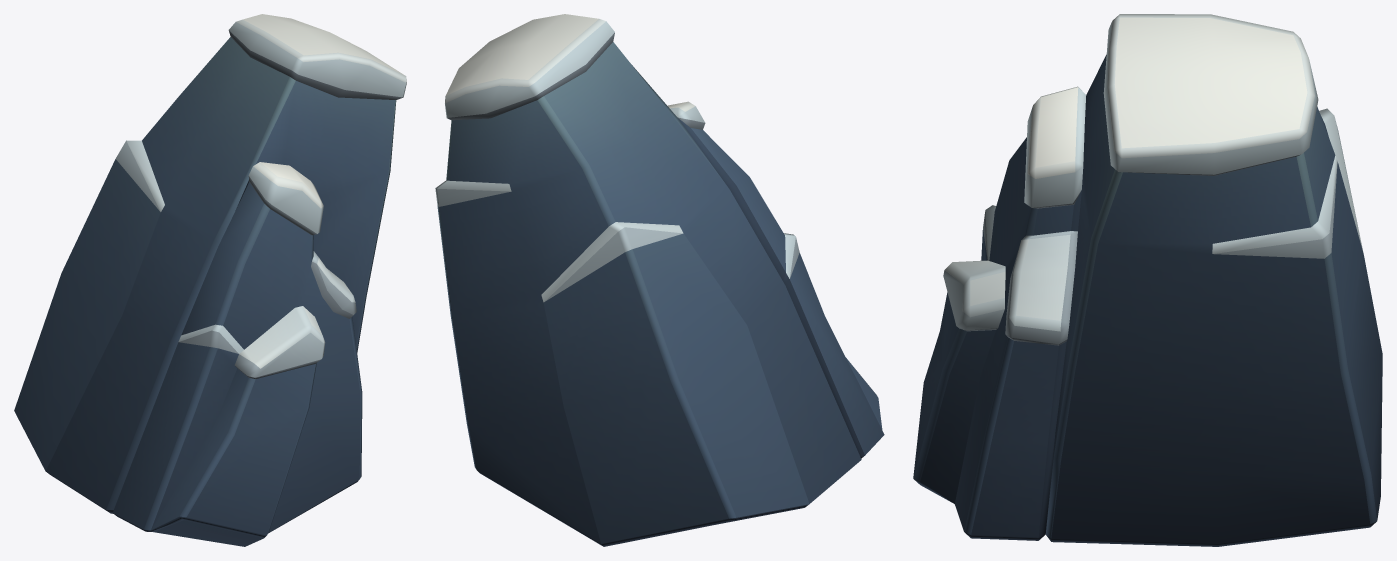
File: rock_snow_029.fbx
3 renders of one model, left to right at view 1: azimuth 30°, elevation 25°; view 2: azimuth 150°, elevation 25°; view 3: azimuth 270°, elevation 25°, orthographic. The views are drawn at different scales.
Visible parts, largest first — view 1: rock_snow_029; view 2: rock_snow_029; view 3: rock_snow_029.
Boxes of the visible parts, bbox=[...] form: rock_snow_029: bbox=[14, 14, 406, 546]; rock_snow_029: bbox=[435, 14, 884, 546]; rock_snow_029: bbox=[913, 14, 1382, 546].
Size of the model in its own units: 890 by 1090 by 805.
1 material, 1 textured.
